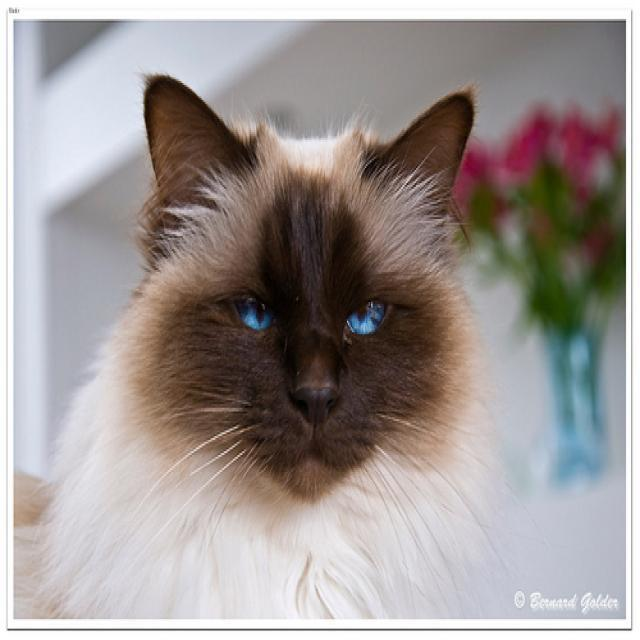Birman: (144, 72, 474, 502)
